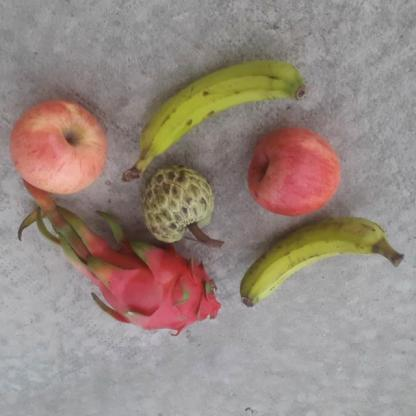annona: (142, 165, 219, 245)
apple: (5, 98, 110, 196), (247, 123, 343, 218)
banana: (118, 59, 310, 183), (237, 214, 410, 309)
pitaya: (84, 240, 223, 333)
